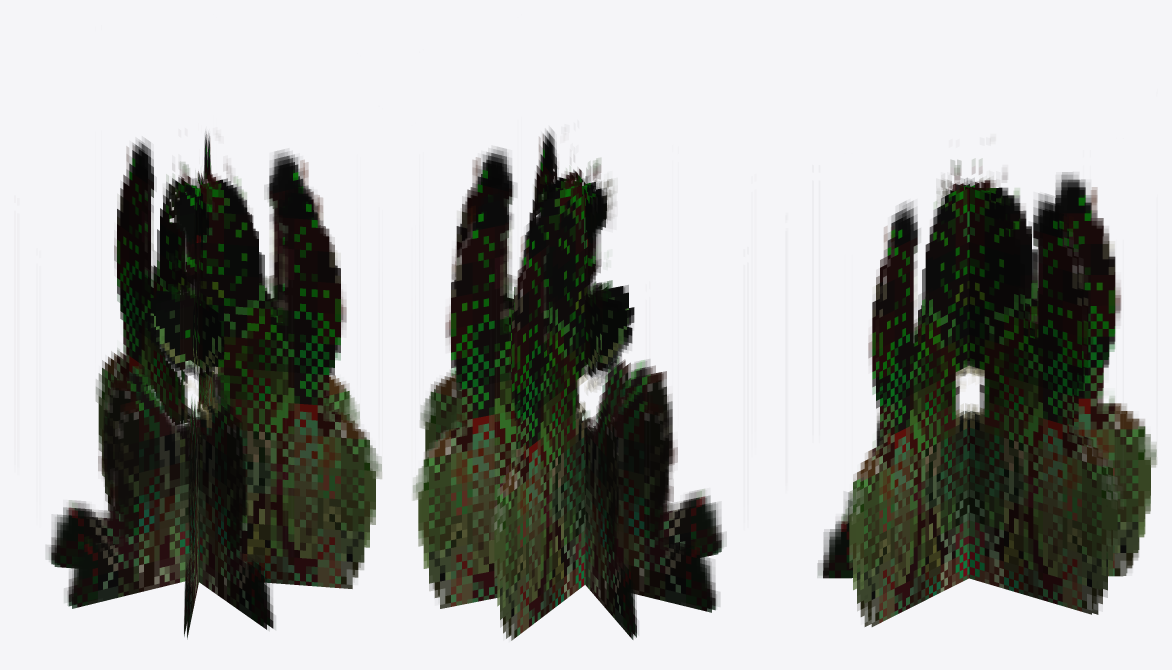
File: Environment - Debris and Ruins - Rubble Mound - Debris - PMPrklyPr_d.glb
The picture shows the model from 3 angles, left to right: view 1: azimuth 30°, elevation 25°; view 2: azimuth 150°, elevation 25°; view 3: azimuth 270°, elevation 25°; orthographic projection.
Parts seen in each view (by area): view 1: PMPRKLYPR_D; view 2: PMPRKLYPR_D; view 3: PMPRKLYPR_D.
Part boxes in pixels (x1,y1,x2,y2): PMPRKLYPR_D: [48, 132, 381, 639]; PMPRKLYPR_D: [412, 129, 723, 640]; PMPRKLYPR_D: [818, 158, 1157, 626].
Bounding box in the file's own units: 8.52 × 12.21 × 8.52.
Materials: 1 (1 with a texture image).
